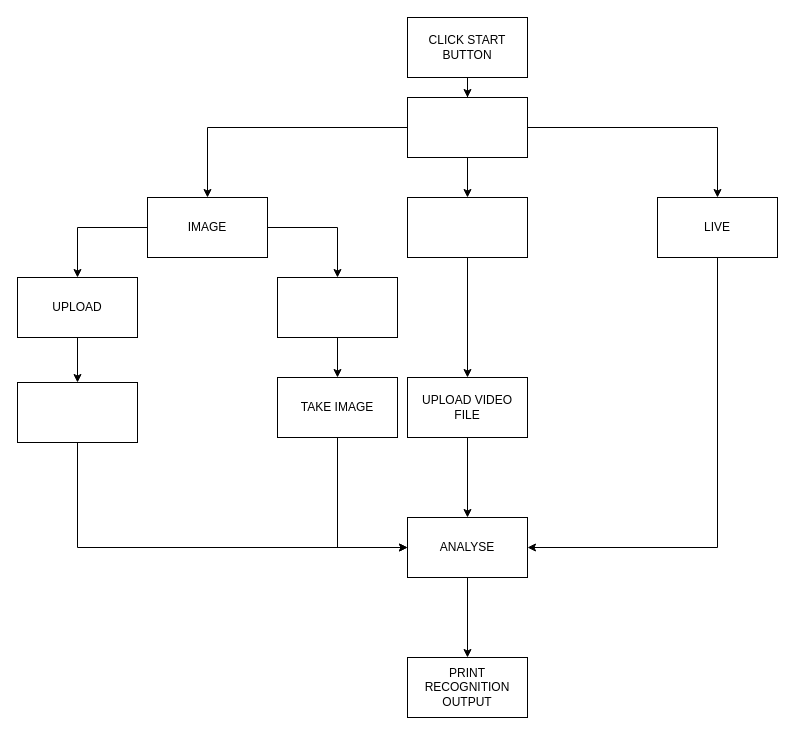
Some shapes in this 795 by 735 pixel diagram are drawn without their labels. Each missing label, with the centre of its shape:
CHOOSE INPUT FROM MENU: the point at 467,127
UPLOAD IMAGE FILE: the point at 77,412
VIDEO: the point at 467,227
WEBCAM: the point at 337,307
